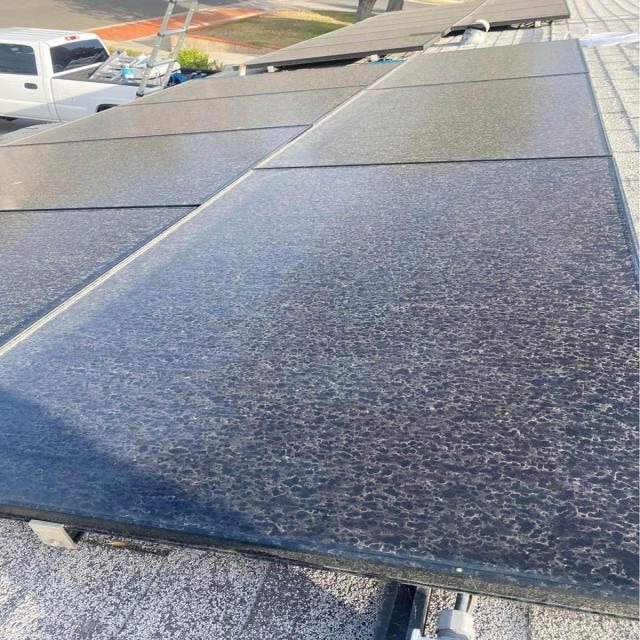dust-solar-panel: (0, 40, 640, 596)
